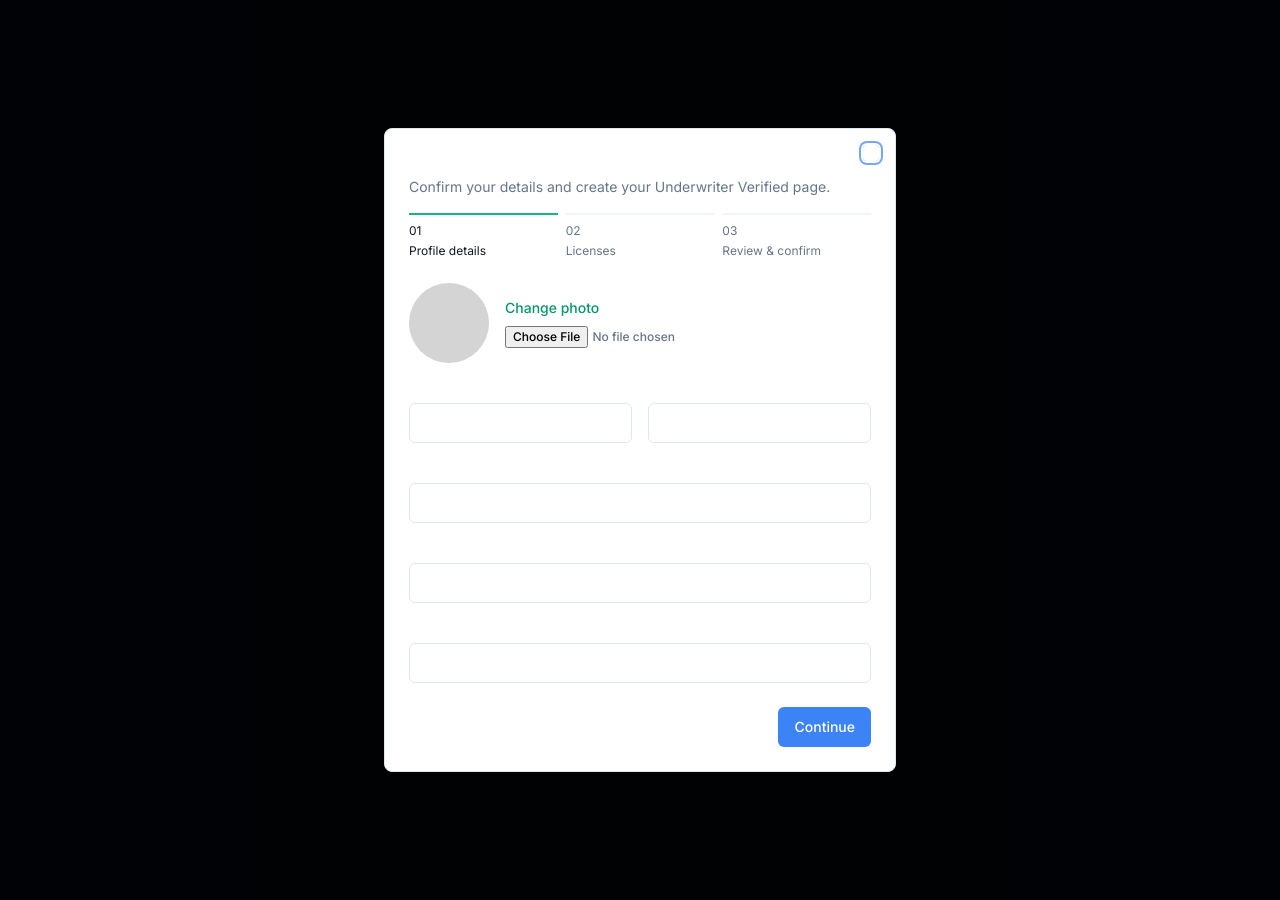
Scenario: verification wizard › preserves edits when saving fails and never shows a success badge
The image size is (1280, 900).
Expected: the field showing "Test" is shown, top-left (409, 403), bottom-right (632, 443)
Step 1. Click the button "Continue" → x=825, y=727, box top-left (778, 707), bottom-right (871, 747)
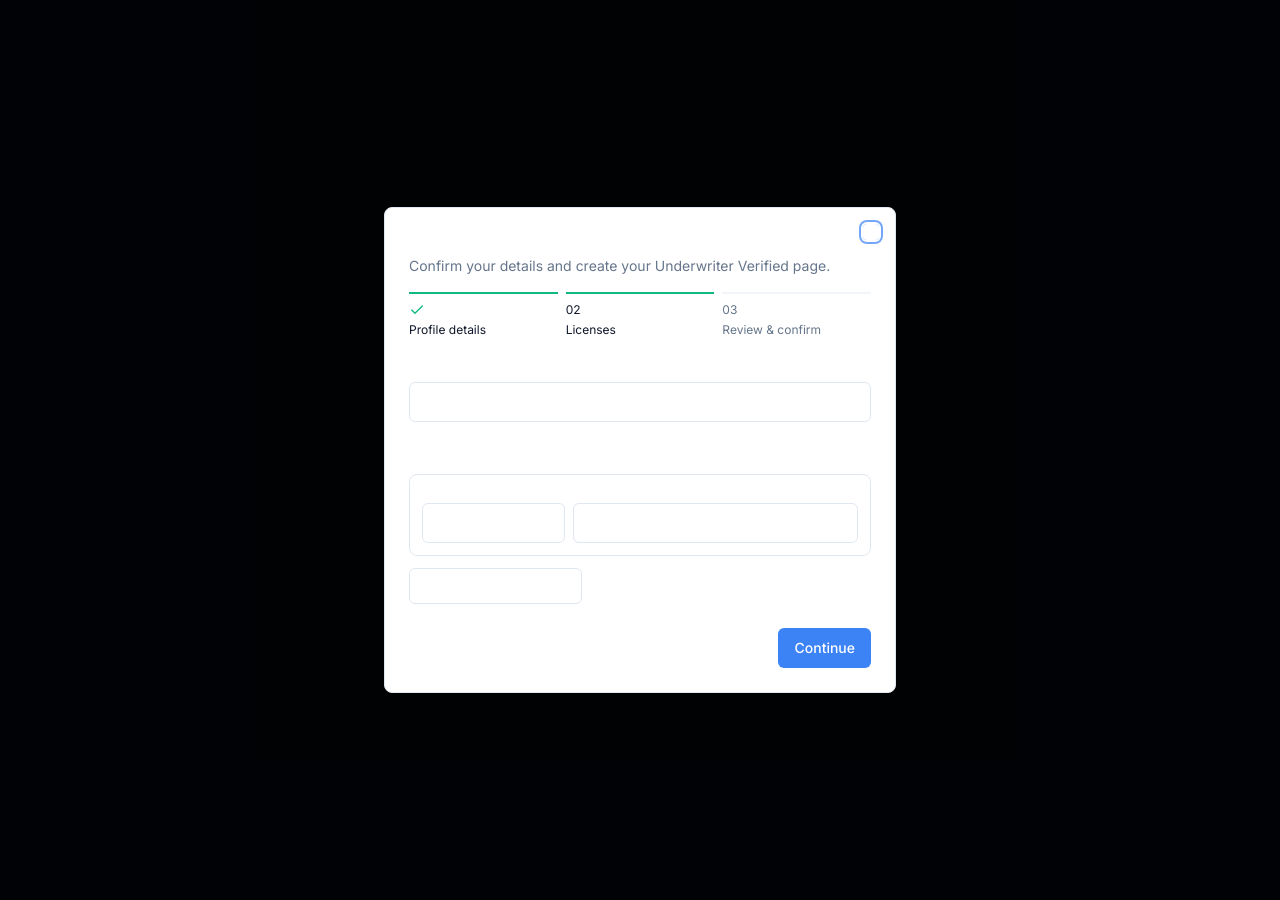
Step 2. Click the button "Continue" → x=825, y=648, box top-left (778, 628), bottom-right (871, 668)
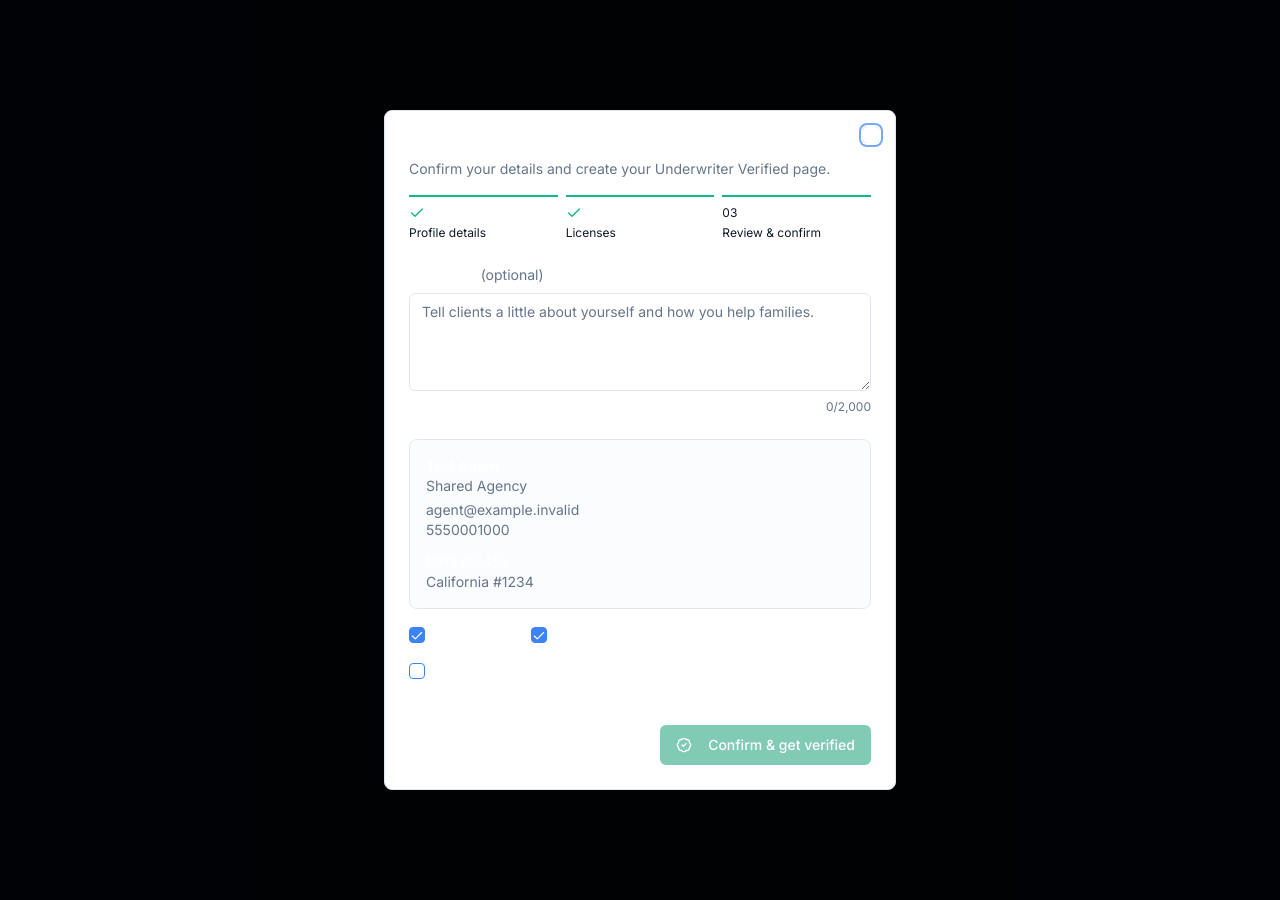
Step 3. Replace the text in the text box labelled "About you (optional) 0/2,000" with "Keep my bio" → x=640, y=342, box top-left (409, 293), bottom-right (871, 391)
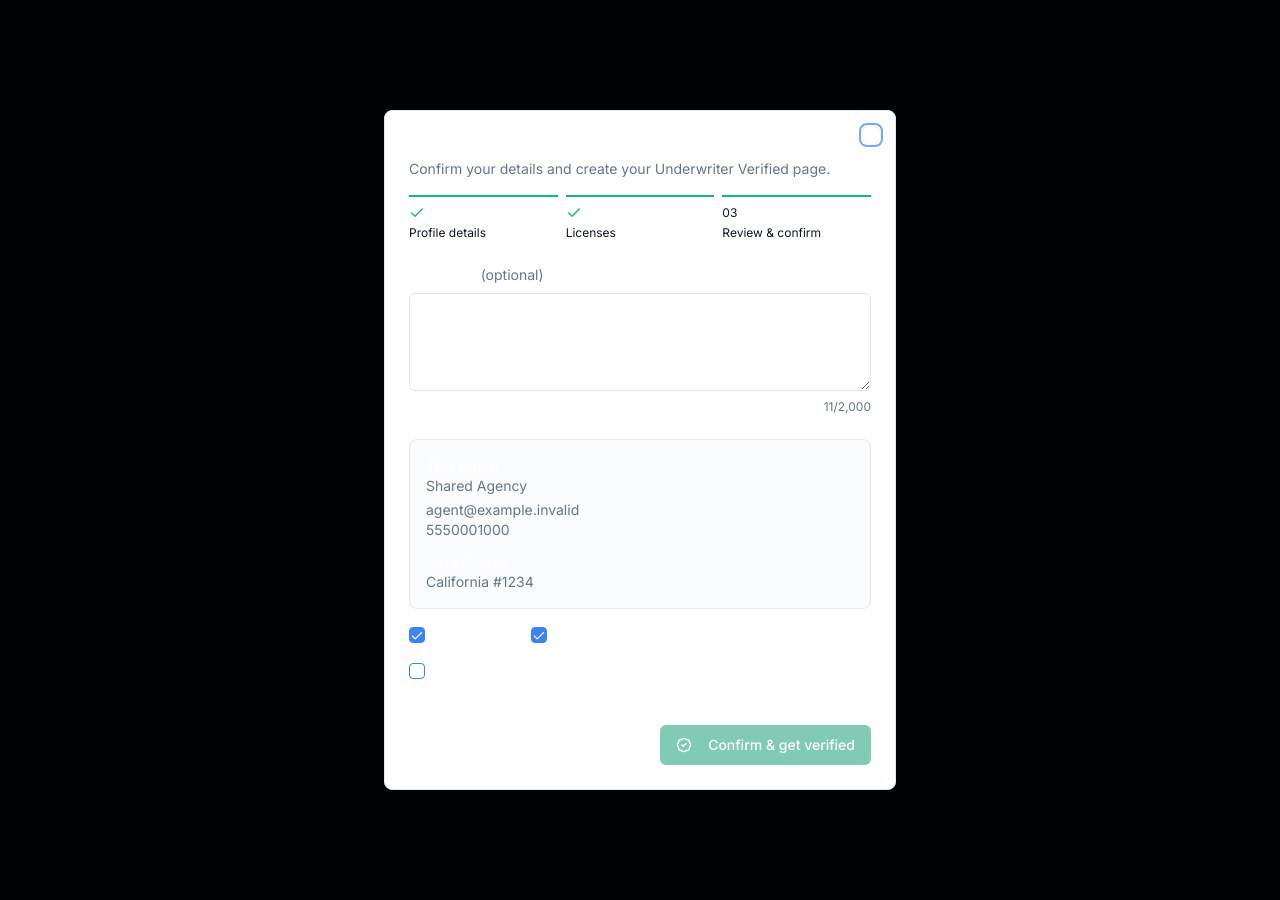
Step 4. Click the 3rd checkbox named "I confirm" → x=417, y=671, box top-left (409, 663), bottom-right (425, 679)
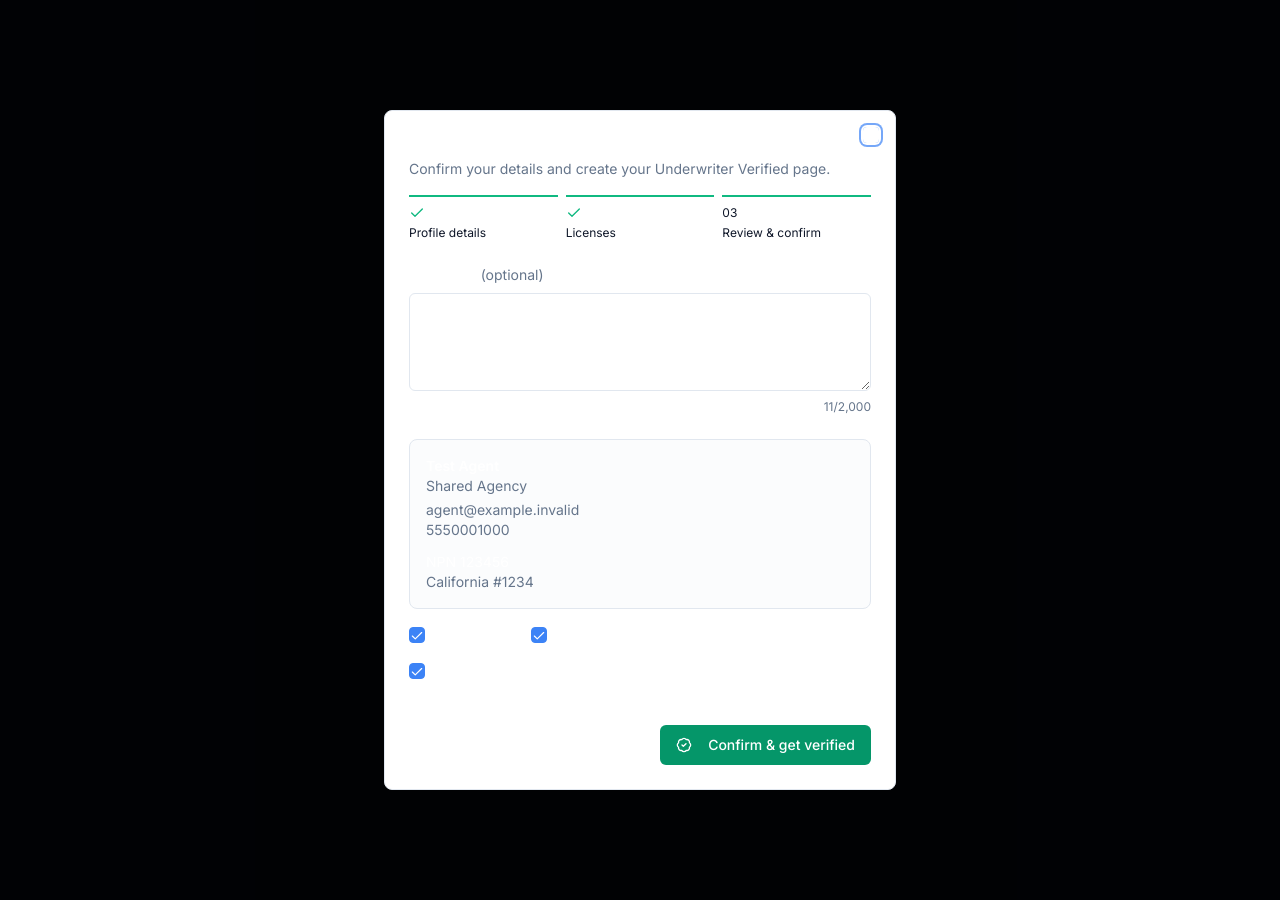
Step 5. Click the button "Confirm & get verified" → x=766, y=745, box top-left (660, 725), bottom-right (871, 765)
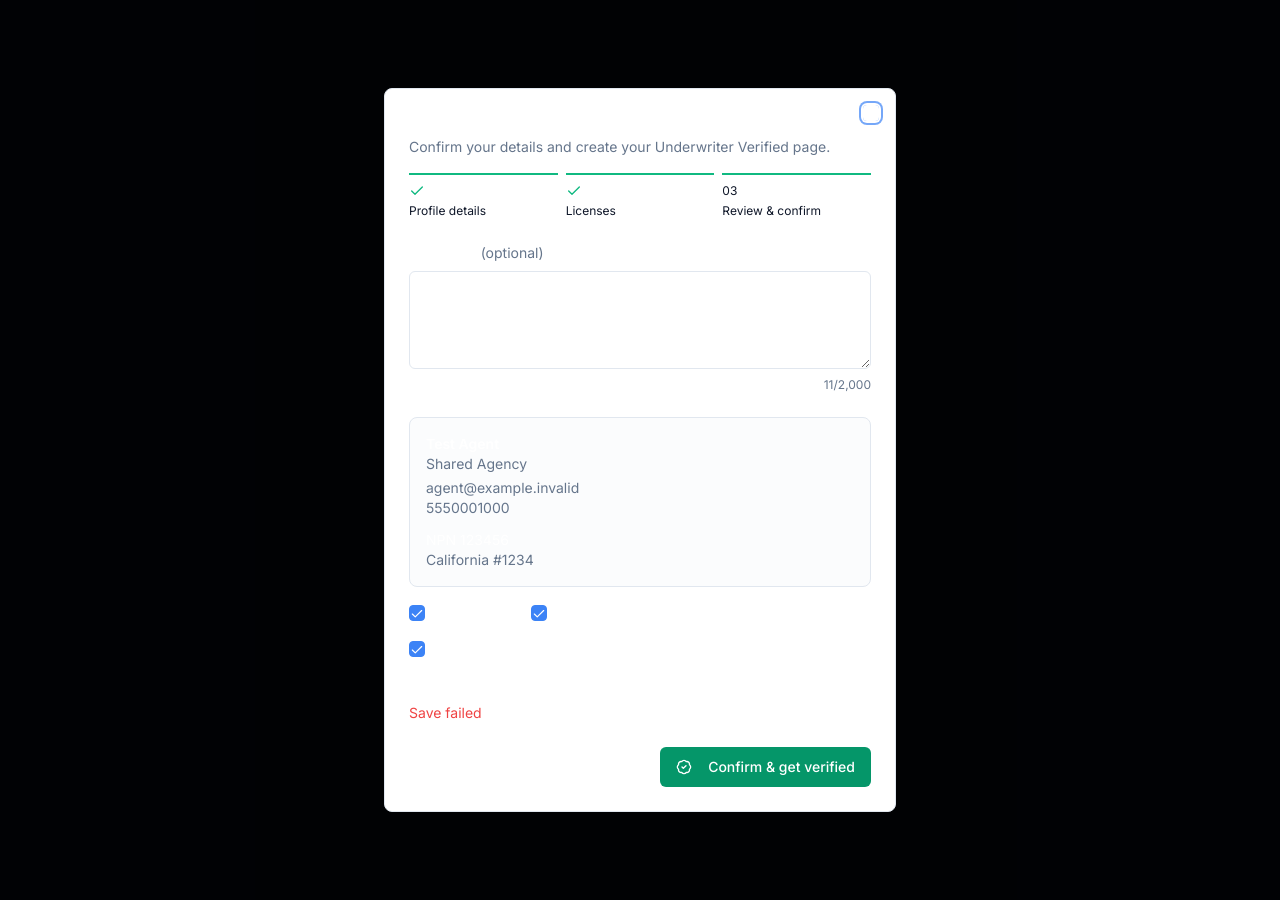
Now the text box showing "Keep my bio" is shown, box top-left (409, 271), bottom-right (871, 369)
Now the message reads "Save failed", box top-left (409, 704), bottom-right (482, 721)
